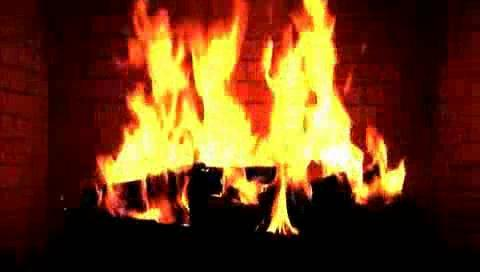fire: (103, 4, 392, 221)
